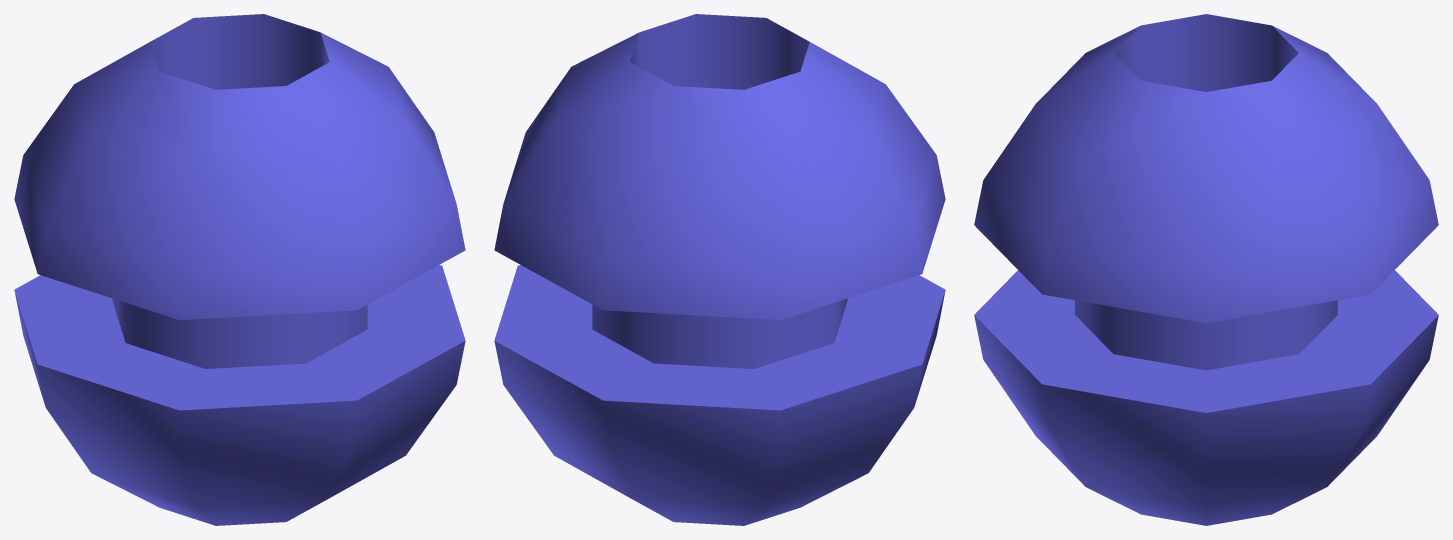
File: BC_sphereLowPoly_export.fbx
3 views of the same model, side by side, from view 1: azimuth 30°, elevation 25°; view 2: azimuth 150°, elevation 25°; view 3: azimuth 270°, elevation 25° (orthographic).
Visible parts, largest first — view 1: sphereLow; view 2: sphereLow; view 3: sphereLow.
Boxes of the visible parts, bbox=[...] form: sphereLow: bbox=[14, 14, 465, 525]; sphereLow: bbox=[494, 14, 945, 525]; sphereLow: bbox=[974, 14, 1438, 525].
Size of the model in its own units: 41.04 by 42.27 by 41.04.
